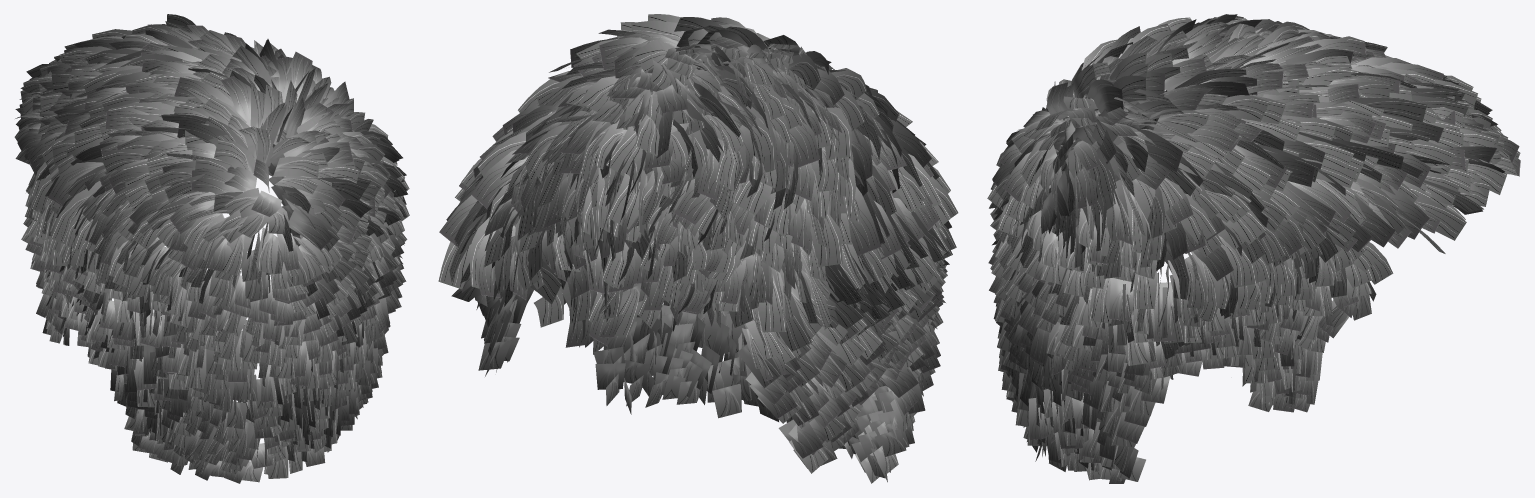
File: hair_vac.obj
3 views of the same model, side by side, from view 1: azimuth 30°, elevation 25°; view 2: azimuth 150°, elevation 25°; view 3: azimuth 270°, elevation 25° (orthographic). The views are drawn at different scales.
Visible parts, largest first — view 1: 0000_mrus_head_hair_vac_main, 0001_mrus_head_hair_vac_main; view 2: 0000_mrus_head_hair_vac_main, 0001_mrus_head_hair_vac_main; view 3: 0000_mrus_head_hair_vac_main, 0001_mrus_head_hair_vac_main.
Boxes of the visible parts, <box> form: 0000_mrus_head_hair_vac_main: <box>14,14,409,483</box>; 0001_mrus_head_hair_vac_main: <box>20,21,406,455</box>; 0000_mrus_head_hair_vac_main: <box>438,14,958,483</box>; 0001_mrus_head_hair_vac_main: <box>439,17,945,427</box>; 0000_mrus_head_hair_vac_main: <box>987,14,1520,483</box>; 0001_mrus_head_hair_vac_main: <box>990,18,1497,457</box>.
Size of the model in its own units: 0.1869 by 0.1963 by 0.23.
1 material, 1 textured.
